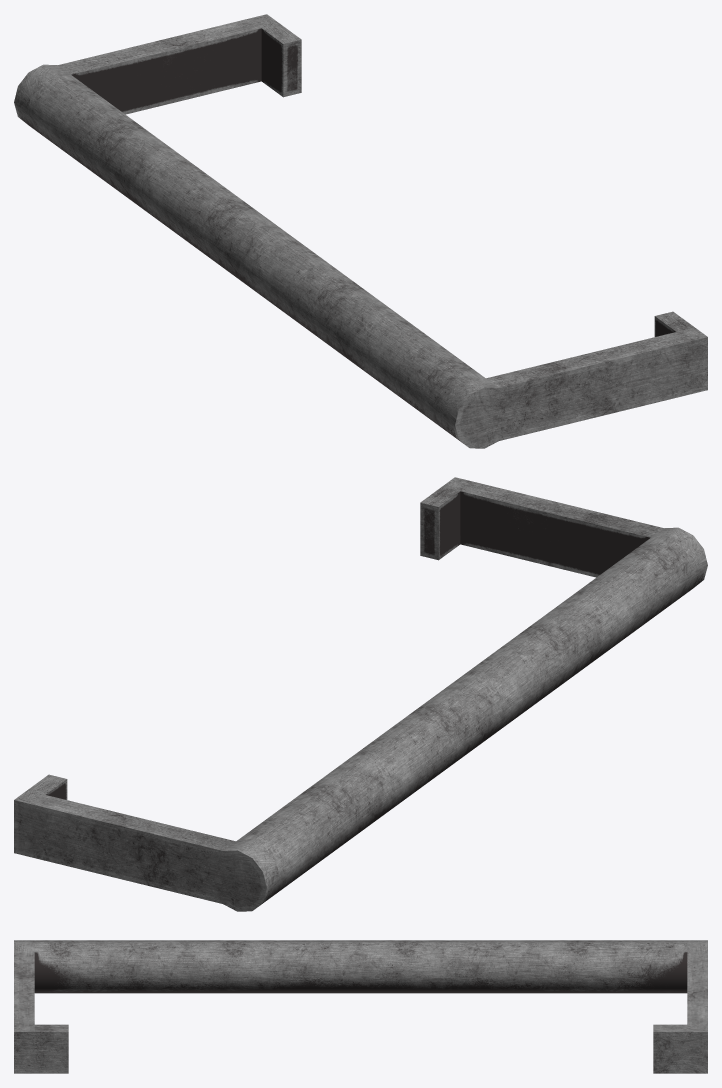
File: SM_Towel_Rack2.fbx
3 renders of one model, top to bottom at view 1: azimuth 30°, elevation 25°; view 2: azimuth 150°, elevation 25°; view 3: azimuth 270°, elevation 25°, orthographic. The views are drawn at different scales.
Visible parts, largest first — view 1: SM_Towel_Rack2; view 2: SM_Towel_Rack2; view 3: SM_Towel_Rack2.
Part boxes in pixels (x1=…): SM_Towel_Rack2: x1=14, y1=14, x2=707, y2=448; SM_Towel_Rack2: x1=14, y1=477, x2=707, y2=911; SM_Towel_Rack2: x1=14, y1=940, x2=707, y2=1073.
Size of the model in its own units: 10.89 by 32.89 by 2.52.
Materials: 1 (1 with a texture image).
